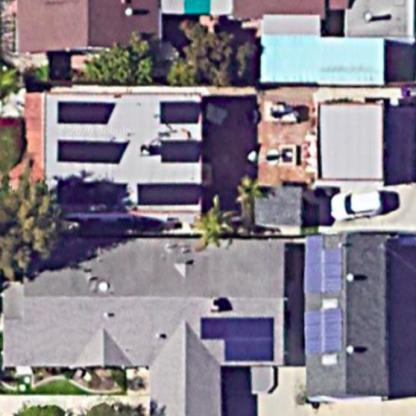car: (322, 185, 398, 226)
solar_panel: (190, 306, 283, 371), (298, 229, 349, 301), (50, 172, 130, 211), (53, 129, 132, 165), (298, 306, 349, 358), (133, 177, 206, 212), (52, 93, 123, 127), (155, 134, 200, 167), (153, 99, 204, 128)
